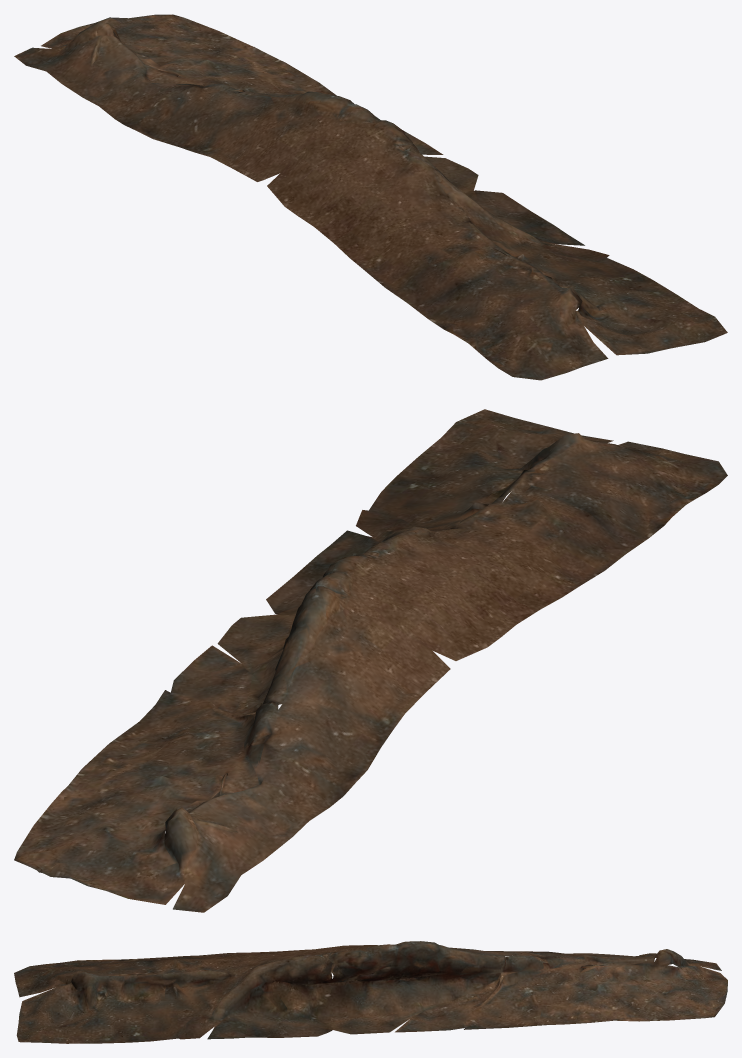
The model's file is single_root.glb.
The picture shows the model from 3 angles, top to bottom: view 1: azimuth 30°, elevation 25°; view 2: azimuth 150°, elevation 25°; view 3: azimuth 270°, elevation 25°; orthographic projection. The views are drawn at different scales.
Parts seen in each view (by area): view 1: single_root; view 2: single_root; view 3: single_root.
Boxes of the visible parts, x1,y1,x2,y2 form: single_root: (14,14,727,380); single_root: (14,409,727,912); single_root: (14,941,727,1043).
Size of the model in its own units: 0.5464 by 0.1762 by 1.83.
Materials: 1 (1 with a texture image).
